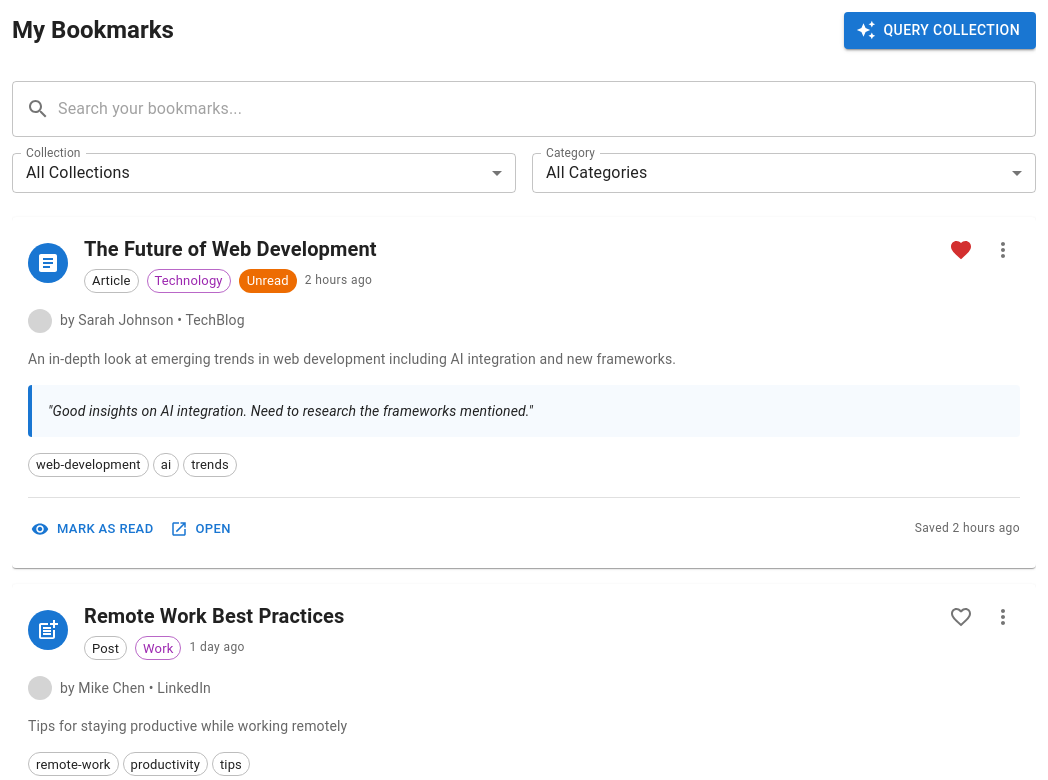
Test: MyCollectionPage › filters items based on search query
Expected: the heading "The Future of Web Development" is shown, [84,232,377,264]
Type "remote" into the field with placeholder "Search your bookmarks...".
click(547, 108); type("remote")  # box [58,80,1036,136]
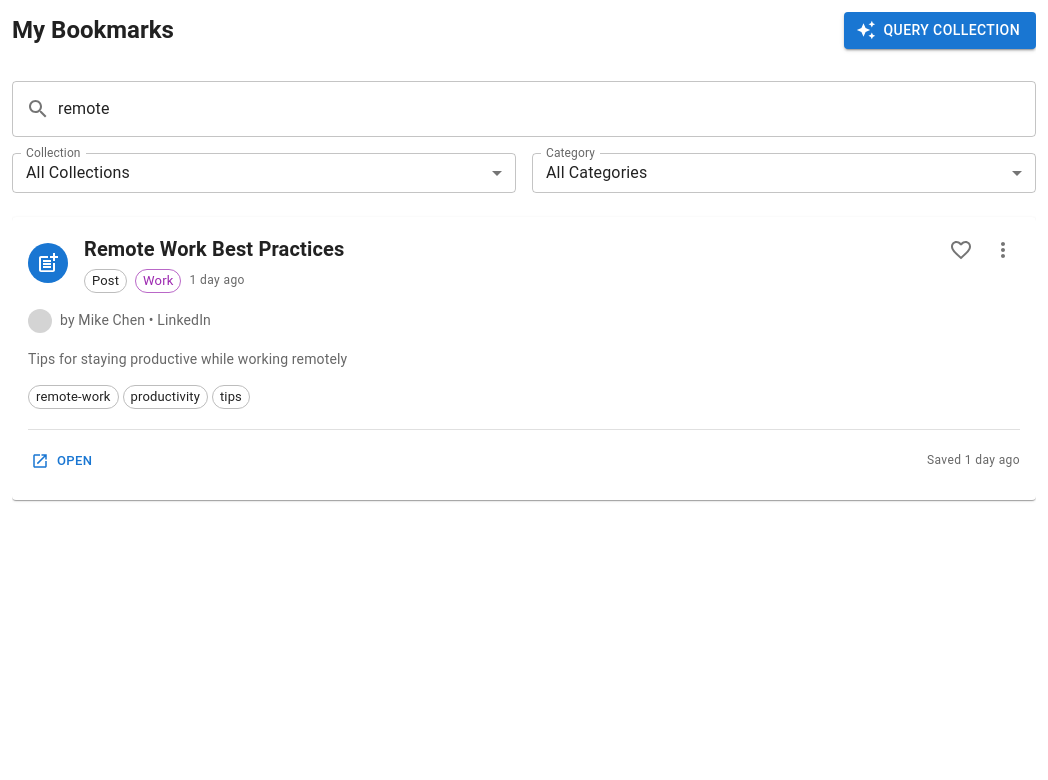
Expected: the heading "Remote Work Best Practices" is shown, [84,232,344,264]
Result: the heading "The Future of Web Development" is gone
